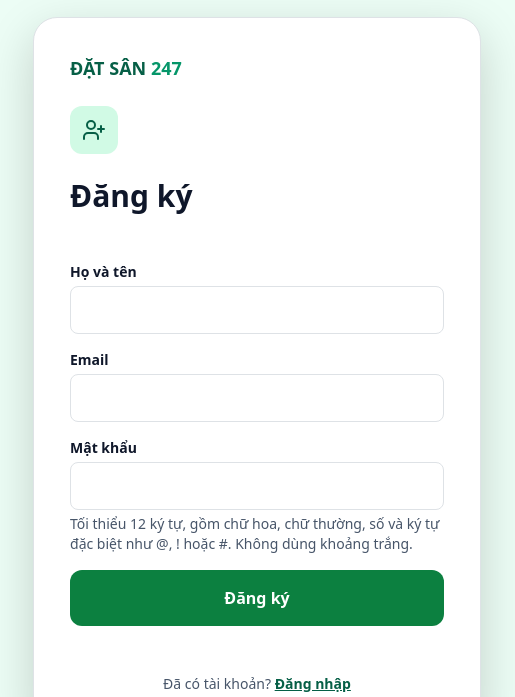
Test case: registration page › rejects email with whitespace ( CUSTOMER@example.test) before posting
Type " Test Customer " into the field labelled "Họ và tên" at point(257, 310), box x1=70 y1=286 x2=444 y2=334
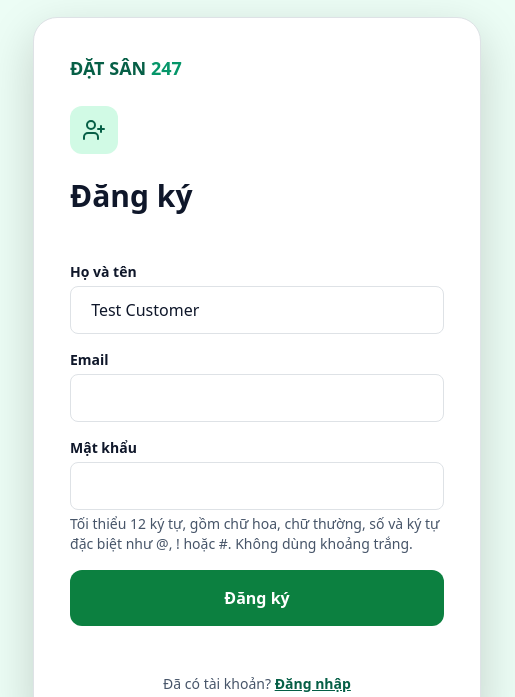
Type " CUSTOMER@example.test" into the field labelled "Email" at point(257, 398), box x1=70 y1=374 x2=444 y2=422
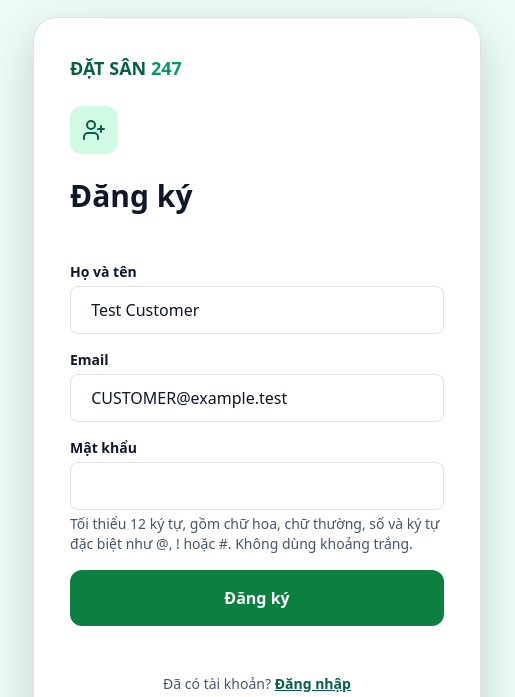
Type "LocalPass1!a" into the password field labelled "Mật khẩu" at point(257, 486), box x1=70 y1=462 x2=444 y2=510
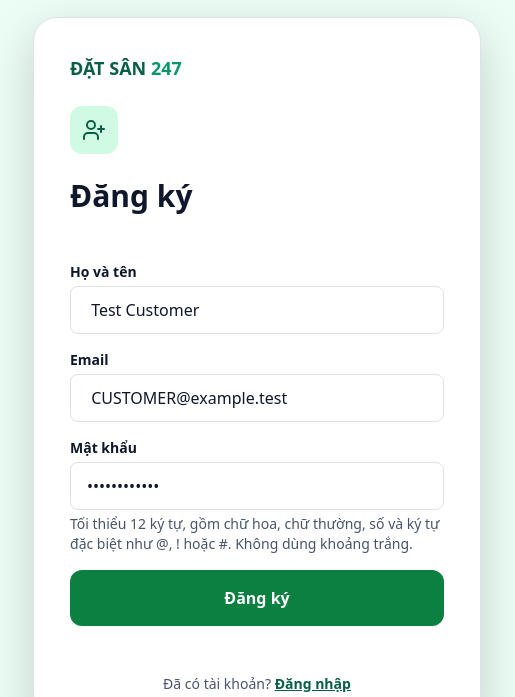
Click the button "Đăng ký" at point(257, 598), box x1=70 y1=570 x2=444 y2=626
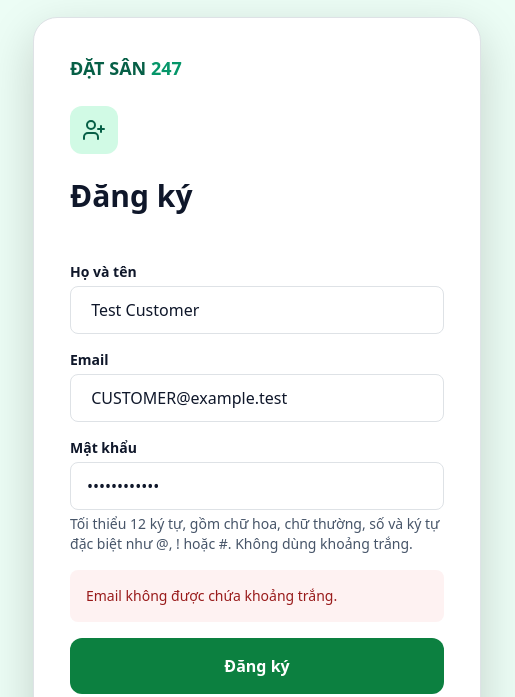
Now the message shows "Email không được chứa khoảng trắng", box x1=86 y1=586 x2=337 y2=605
